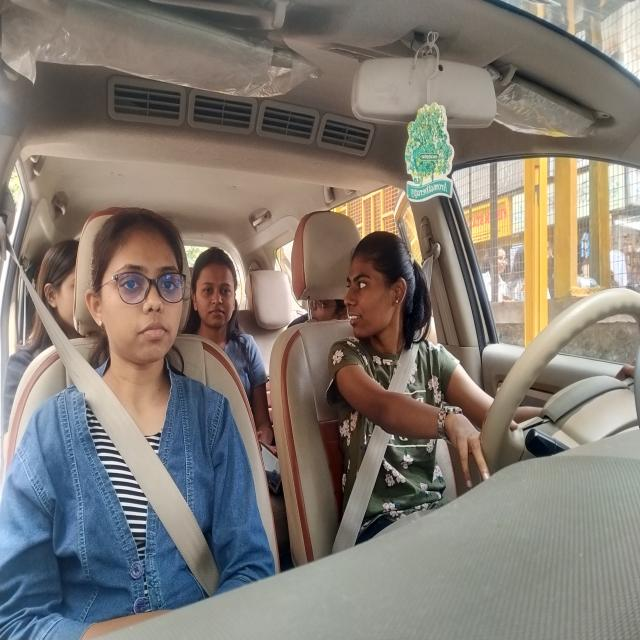LeftRight: (337, 226, 432, 358)
person: (89, 200, 193, 376), (31, 216, 77, 366), (192, 237, 246, 341)
